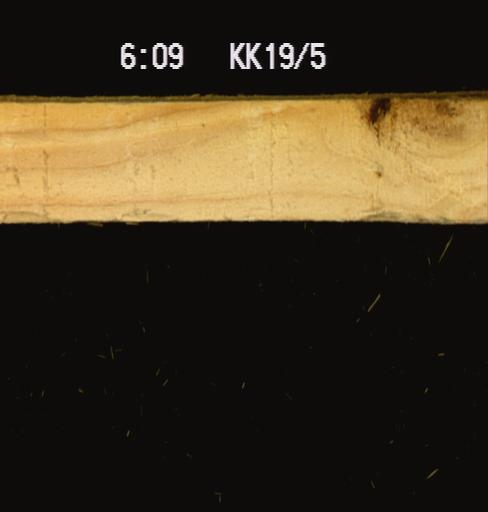wave: (346, 203, 455, 221), (112, 201, 181, 221), (0, 205, 64, 221)
